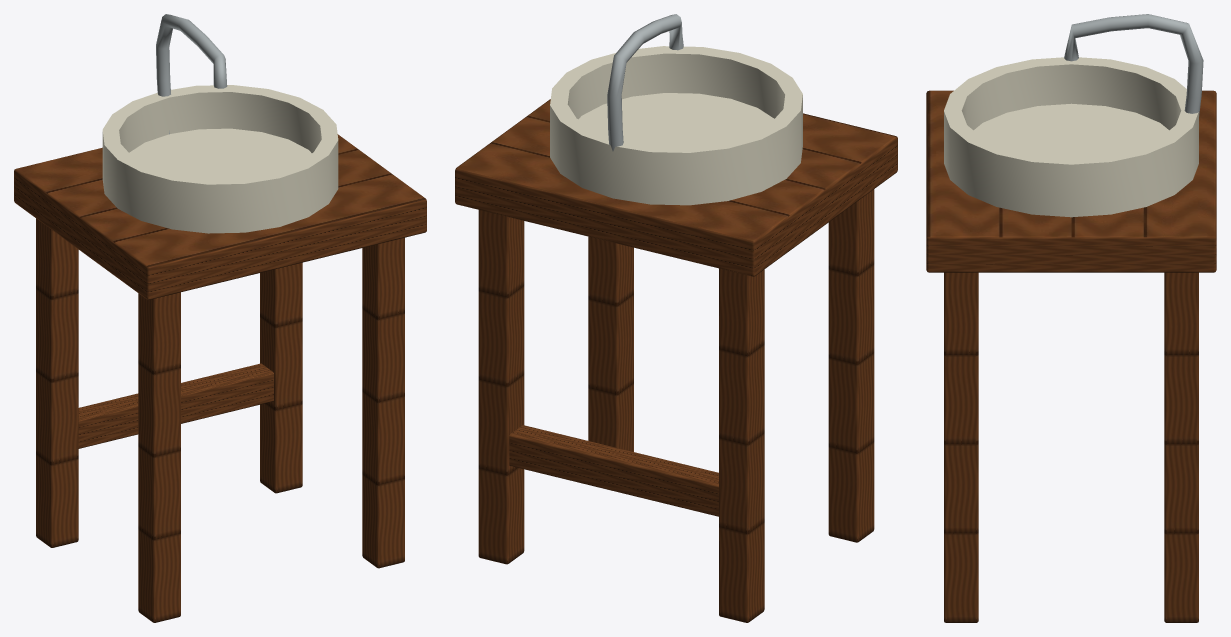
Rendered from water-collection-and-purification-wash-basin-9e8f3e98__20205.glb.
The picture shows the model from 3 angles, left to right: view 1: azimuth 30°, elevation 25°; view 2: azimuth 150°, elevation 25°; view 3: azimuth 270°, elevation 25°; orthographic projection. The views are drawn at different scales.
Visible parts, largest first — view 1: wash-basin; view 2: wash-basin; view 3: wash-basin.
Boxes of the visible parts, x1,y1,x2,y2 form: wash-basin: [14, 14, 426, 622]; wash-basin: [455, 14, 897, 622]; wash-basin: [926, 14, 1216, 622].
Size of the model in its own units: 0.6 by 1.03 by 0.5.
Materials: 3 (1 with a texture image).
